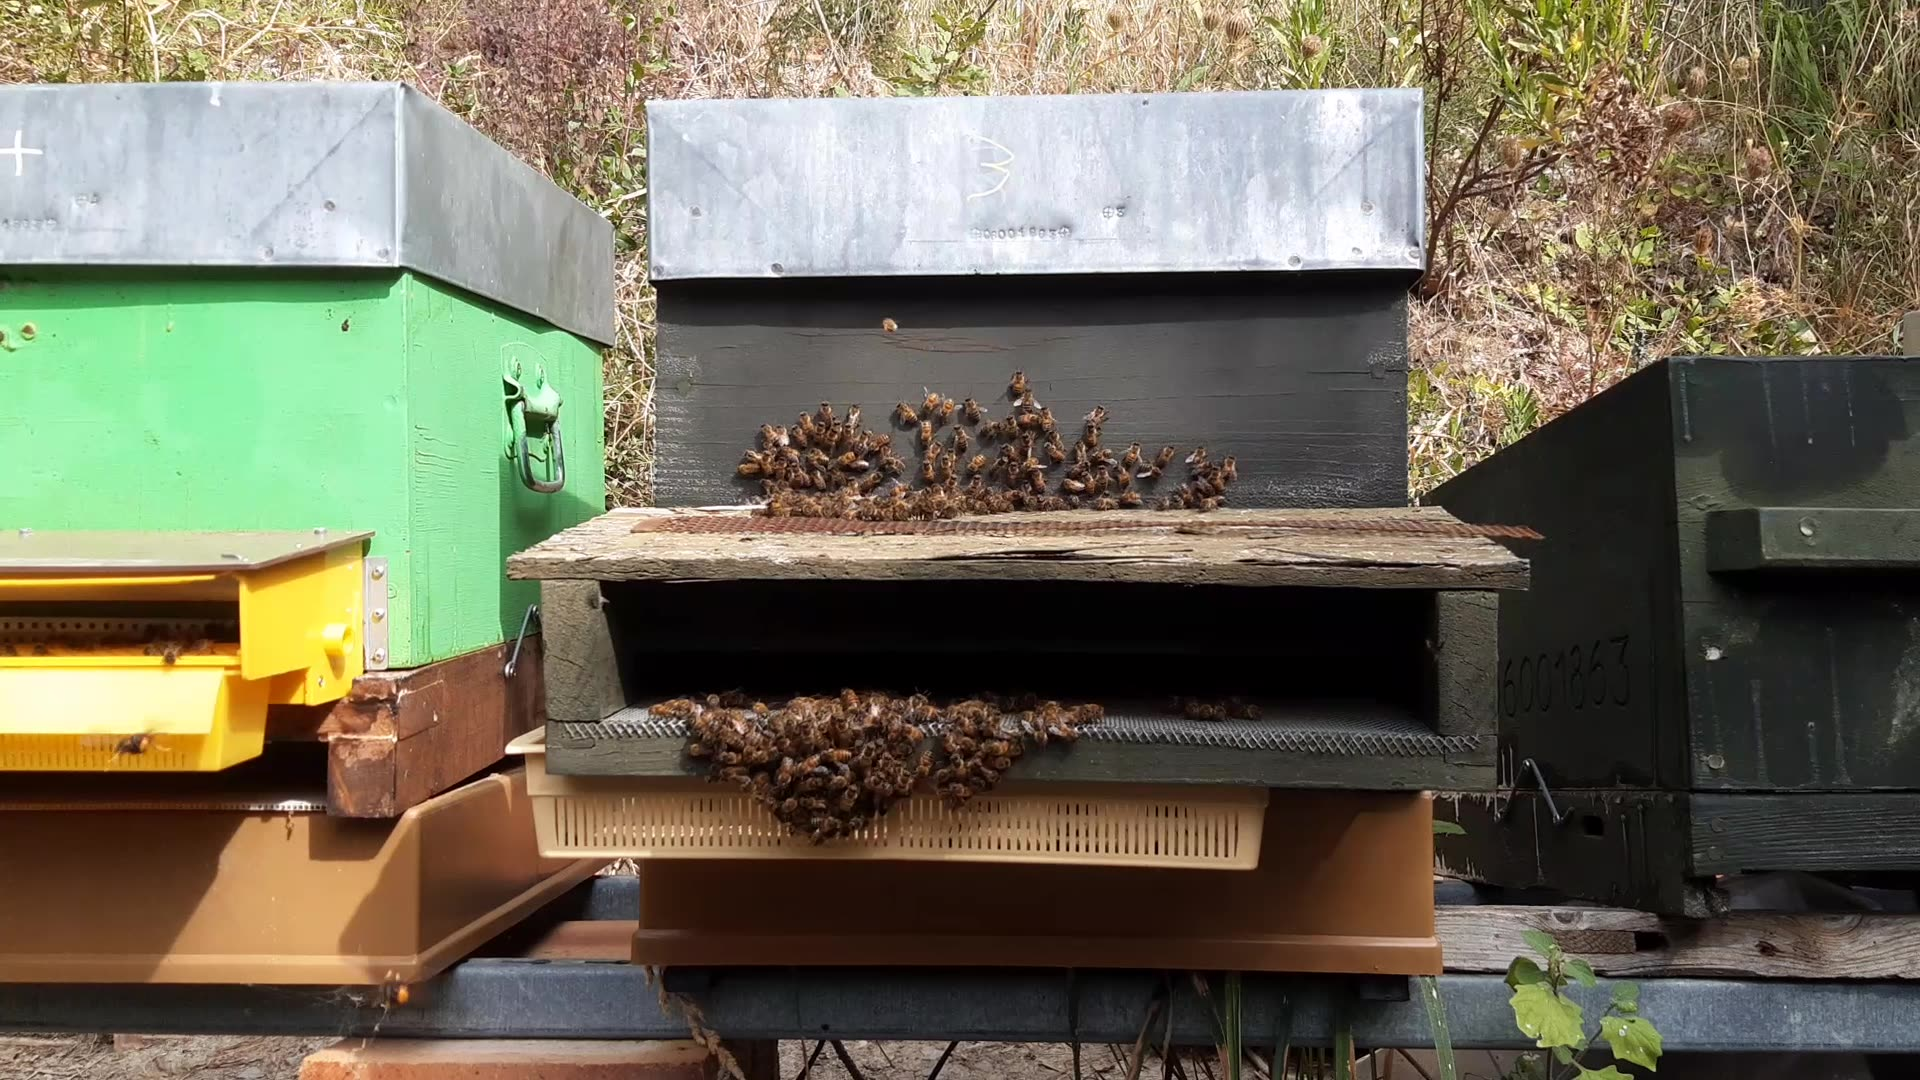bee: (760, 757, 844, 843), (913, 750, 997, 827), (1019, 691, 1127, 744), (1141, 450, 1232, 509), (947, 464, 1014, 535), (680, 694, 775, 744), (1025, 452, 1098, 510), (807, 675, 905, 717), (857, 459, 922, 517), (820, 411, 877, 469), (955, 393, 1009, 444), (1034, 410, 1077, 462), (865, 316, 923, 352)
